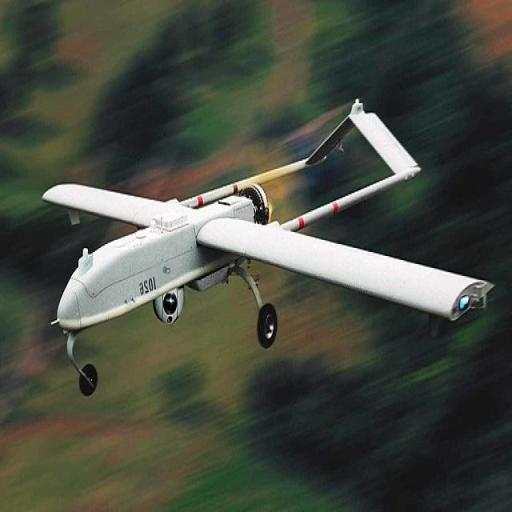uav: (46, 92, 498, 402)
